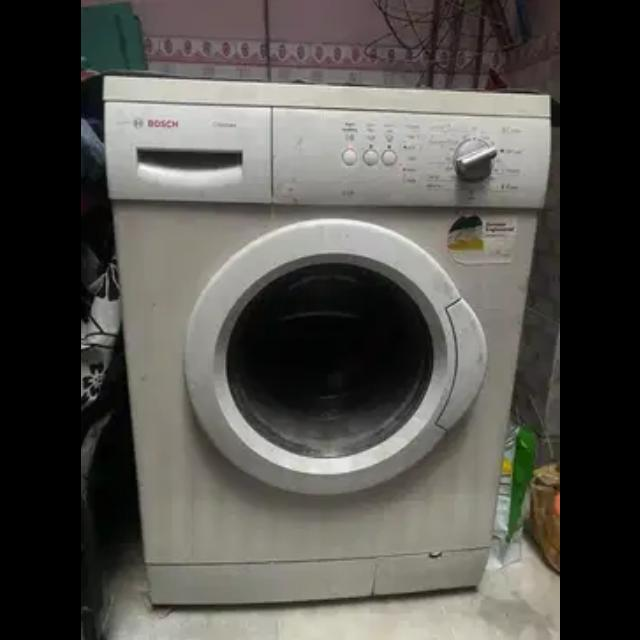Washing-Machine: (103, 78, 545, 604)
